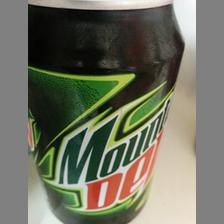Soda: (27, 0, 185, 224)
